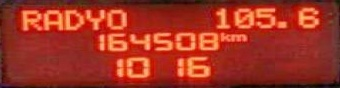-: (275, 19, 289, 28)
0: (124, 55, 148, 77), (232, 6, 252, 28), (174, 30, 194, 51)
1: (213, 6, 232, 29), (174, 55, 184, 76), (95, 31, 104, 51), (114, 57, 122, 78)
4: (128, 31, 149, 50)
5: (253, 5, 276, 29), (151, 31, 172, 50)
6: (185, 55, 212, 78), (295, 6, 320, 29), (105, 30, 127, 52)
8: (195, 30, 216, 50)
X: (104, 7, 129, 29), (62, 7, 84, 30), (18, 9, 41, 30), (41, 8, 61, 30), (84, 6, 102, 29), (229, 32, 247, 41), (219, 29, 230, 42)
